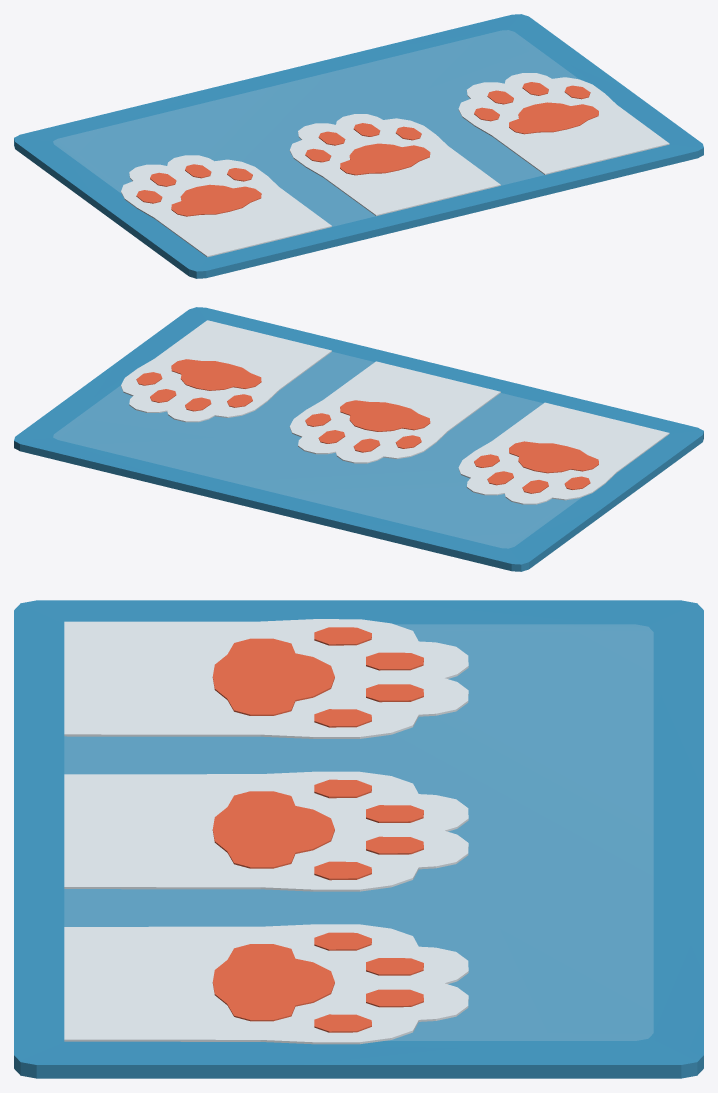
File: Tham 1.003.gltf
The picture shows the model from 3 angles, top to bottom: view 1: azimuth 30°, elevation 25°; view 2: azimuth 150°, elevation 25°; view 3: azimuth 270°, elevation 25°; orthographic projection. The views are drawn at different scales.
Parts seen in each view (by area): view 1: Tham 1.003; view 2: Tham 1.003; view 3: Tham 1.003.
Part boxes in pixels (<box>): Tham 1.003: <box>14,14,703,278</box>; Tham 1.003: <box>14,307,703,571</box>; Tham 1.003: <box>14,600,703,1078</box>.
Bounding box in the file's own units: 8.07 × 0.1379 × 5.06.
Materials: 1 (1 with a texture image).
